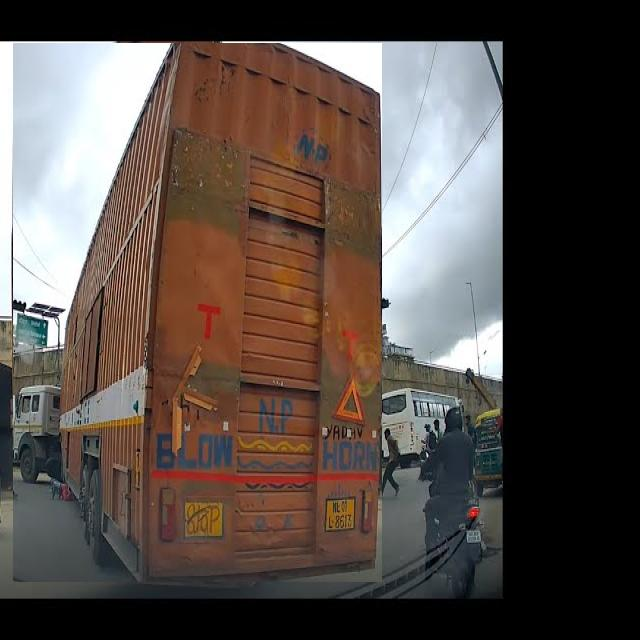truck: (13, 44, 381, 582)
